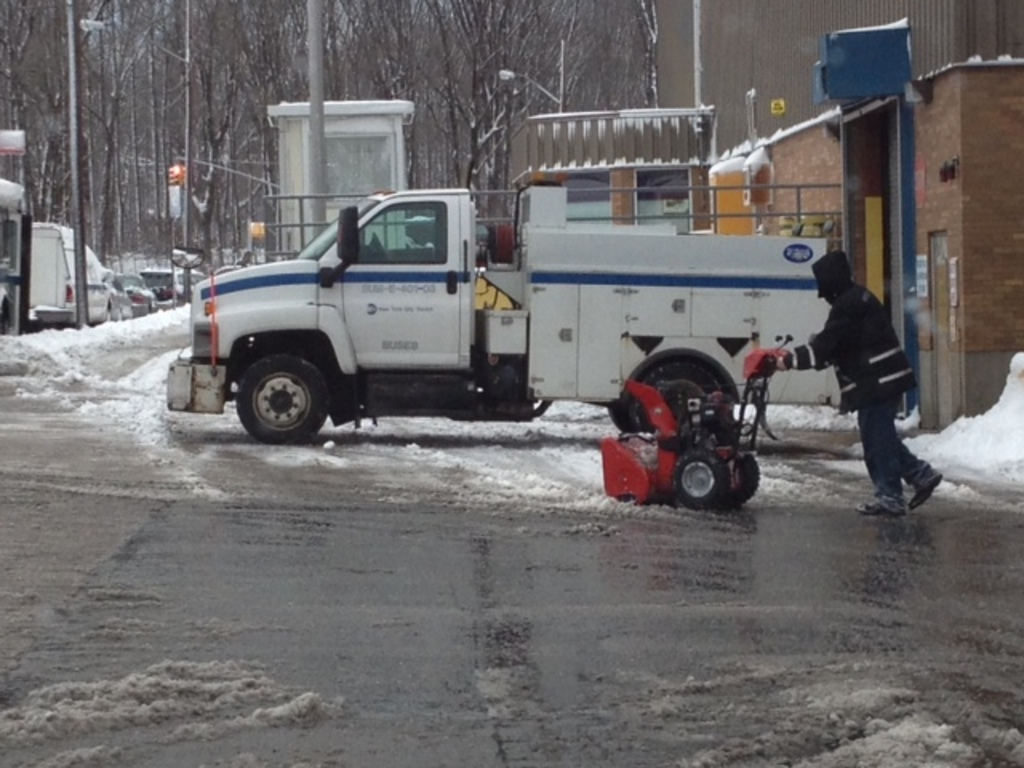truck: (142, 182, 878, 451)
